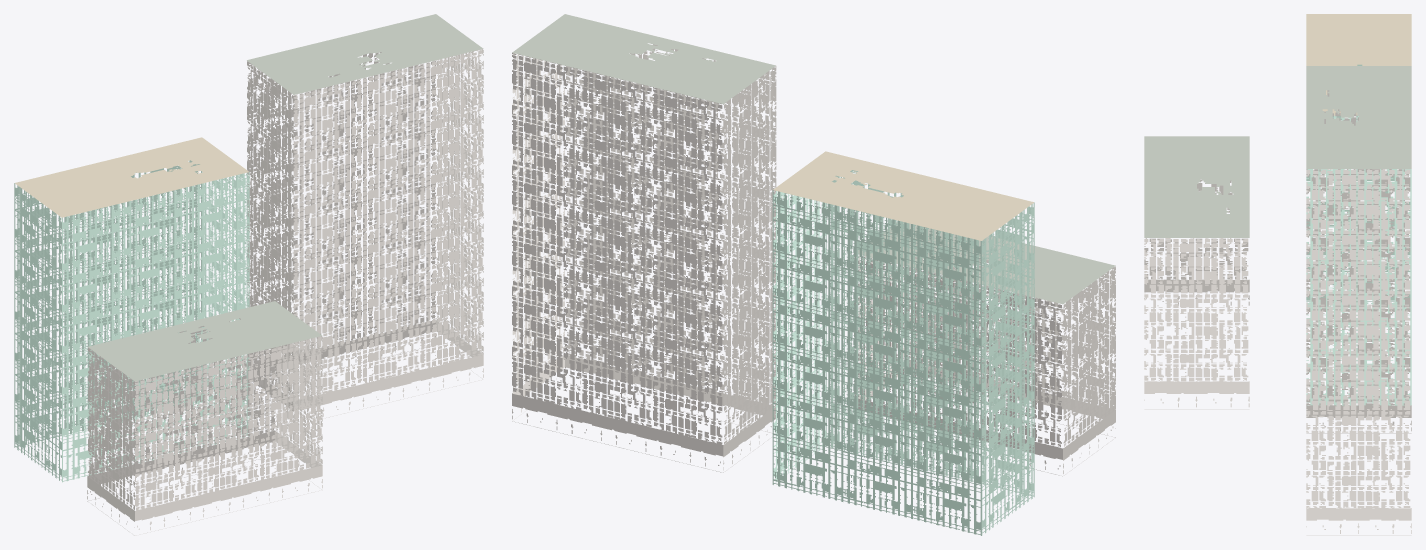
File: uvmd-0115.glb
3 views of the same model, side by side, from view 1: azimuth 30°, elevation 25°; view 2: azimuth 150°, elevation 25°; view 3: azimuth 270°, elevation 25° (orthographic). The views are drawn at different scales.
Visible parts, largest first — view 1: uvmd-0115; view 2: uvmd-0115; view 3: uvmd-0115.
Part boxes in pixels (x1,y1,x2,y2): uvmd-0115: (14, 14, 483, 535); uvmd-0115: (512, 14, 1115, 535); uvmd-0115: (1144, 14, 1411, 535).
Bounding box in the file's own units: 1000 × 750 × 495.
Materials: 4 (4 with a texture image).
